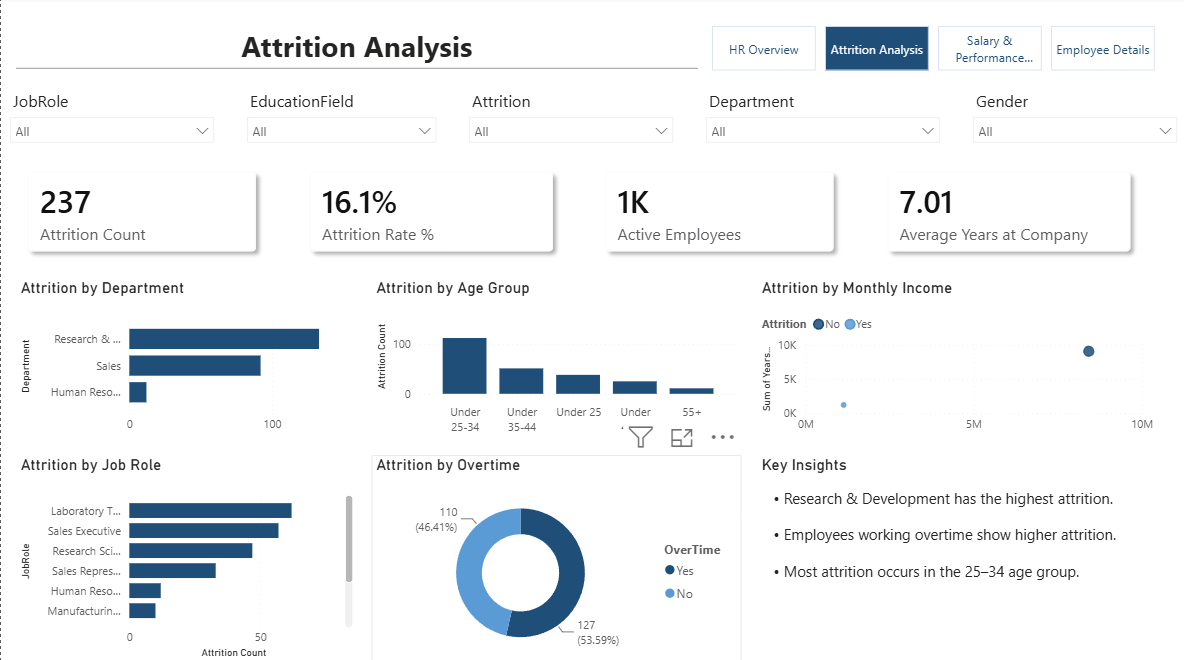

Layout of this report page (visuals, bound fields, positions):
{"tool":"powerbi","page":{"name":"Attrition Analysis","canvas":[1280,720],"ordinal":1},"visuals":[{"type":"textbox","title":"Attrition Analysis","box":[16,32,736,48],"z":0},{"type":"cardVisual","fields":{"Data":["_Measures.Attrition Count"]},"box":[0,160,304,144],"z":1},{"type":"cardVisual","fields":{"Data":["_Measures.Attrition Rate %"]},"box":[304,160,320,144],"z":2},{"type":"cardVisual","fields":{"Data":["_Measures.Active Employees"]},"box":[624,160,304,144],"z":3},{"type":"cardVisual","fields":{"Data":["_Measures.Average Years at Company"]},"box":[928,160,320,144],"z":4},{"type":"slicer","fields":{"Values":["Employee.EducationField"]},"box":[256,96,224,80],"z":5},{"type":"slicer","fields":{"Values":["Employee.JobRole"]},"box":[0,96,240,80],"z":6},{"type":"slicer","fields":{"Values":["Employee.Attrition"]},"box":[496,96,240,80],"z":7},{"type":"slicer","fields":{"Values":["Employee.Department"]},"box":[752,96,272,80],"z":8},{"type":"slicer","fields":{"Values":["Employee.Gender"]},"box":[1040,96,240,80],"z":9},{"type":"clusteredBarChart","title":"Attrition by Department","fields":{"Category":["Dim Department.Department"],"Y":["_Measures.Attrition Count"]},"box":[16,304,368,176],"z":10},{"type":"clusteredBarChart","title":"Attrition by Job Role","fields":{"Category":["Dim Job Role.JobRole"],"Y":["_Measures.Attrition Count"]},"box":[16,496,368,224],"z":11},{"type":"clusteredColumnChart","title":"Attrition by Age Group","fields":{"Category":["Employee.Age Group"],"Y":["_Measures.Attrition Count"]},"box":[400,304,400,176],"z":12},{"type":"donutChart","title":"Attrition by Overtime","fields":{"Category":["Employee.OverTime"],"Y":["_Measures.Attrition Count"]},"box":[400,496,400,224],"z":13},{"type":"scatterChart","title":"Attrition by Monthly Income","fields":{"Series":["Employee.Attrition"],"Size":["_Measures.Total Employees"],"X":["Sum(Employee.MonthlyIncome)"],"Y":["Sum(Employee.YearsAtCompany)"]},"box":[816,304,432,176],"z":14},{"type":"textbox","title":"Key Insights","box":[816,496,448,176],"z":15},{"type":"pageNavigator","box":[768,32,480,48],"z":16}]}

Visuals, with their boxes in screenshot pixels (x1, y1, x2, y2), scaled from the page's 1280x720 canvas onto the 1184x660 screenshot:
"Attrition Analysis" textbox: 15/29/696/73
cardVisual - _Measures.Attrition Count: 0/147/281/279
cardVisual - _Measures.Attrition Rate %: 281/147/577/279
cardVisual - _Measures.Active Employees: 577/147/858/279
cardVisual - _Measures.Average Years at Company: 858/147/1154/279
slicer - Employee.EducationField: 237/88/444/161
slicer - Employee.JobRole: 0/88/222/161
slicer - Employee.Attrition: 459/88/681/161
slicer - Employee.Department: 696/88/947/161
slicer - Employee.Gender: 962/88/1183/161
"Attrition by Department" clusteredBarChart: 15/279/355/440
"Attrition by Job Role" clusteredBarChart: 15/455/355/659
"Attrition by Age Group" clusteredColumnChart: 370/279/740/440
"Attrition by Overtime" donutChart: 370/455/740/659
"Attrition by Monthly Income" scatterChart: 755/279/1154/440
"Key Insights" textbox: 755/455/1169/616
pageNavigator: 710/29/1154/73
